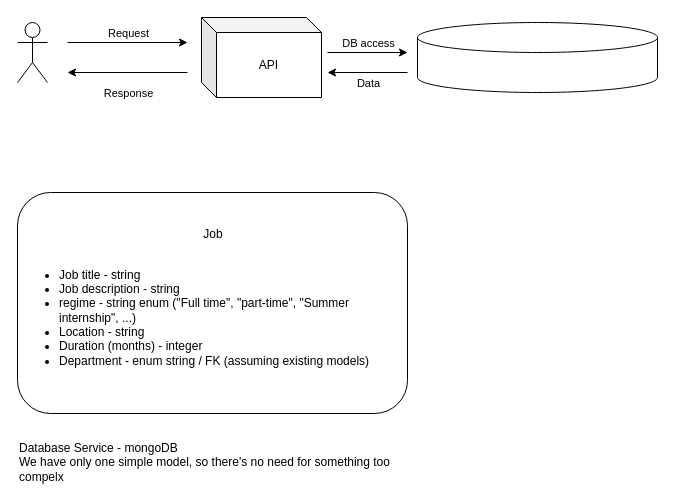
Image size: 675x501. Some labels were removed from this diagram. Each missing label, with the centre of its shape:
"Client" goes at pixel 32 52.
"Database" goes at pixel 537 57.
